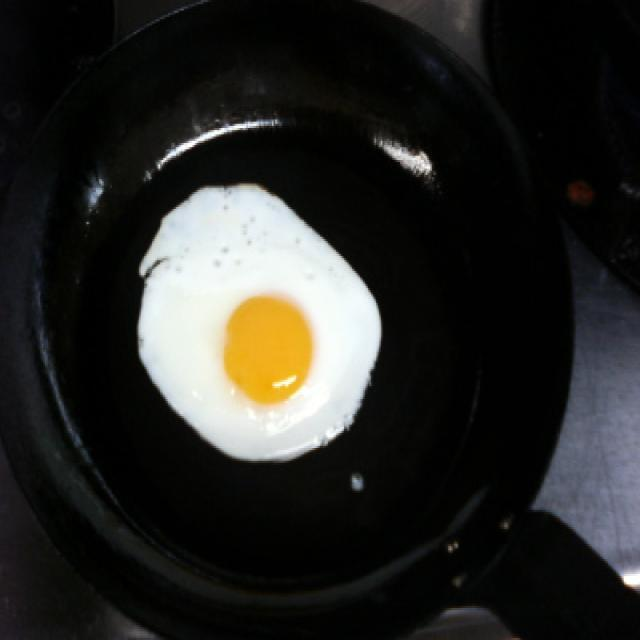Egg: (136, 178, 386, 470)
